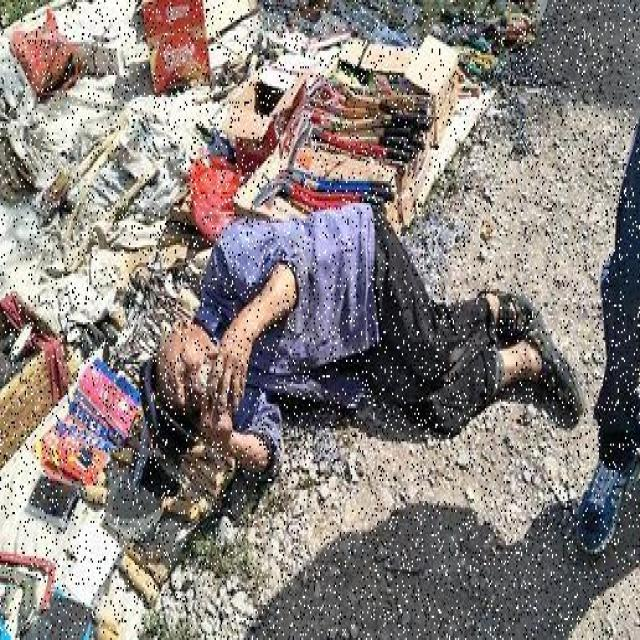fall: (140, 216, 574, 450)
